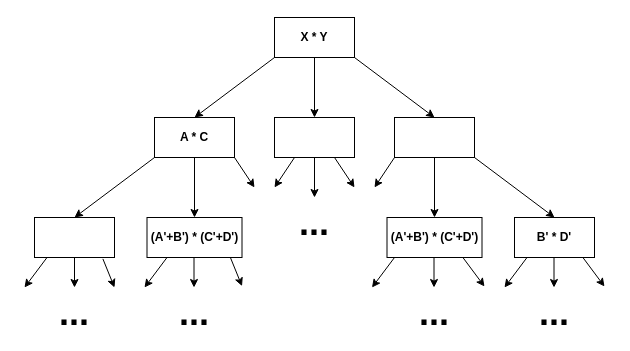
This 630x351 diagram has some shape labels left out. Here are the shapes that lost their labels. From the top down, the box of each, then its label:
(274, 116, 354, 158): (A+B) * (C+D)
(394, 116, 474, 158): B * D
(34, 216, 114, 258): A' * C'
